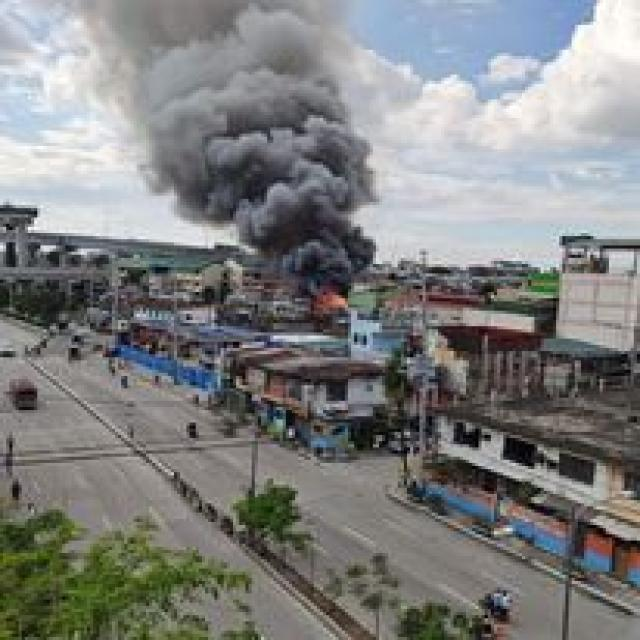Fire: (303, 289, 359, 318)
Smoke: (88, 0, 396, 289)
